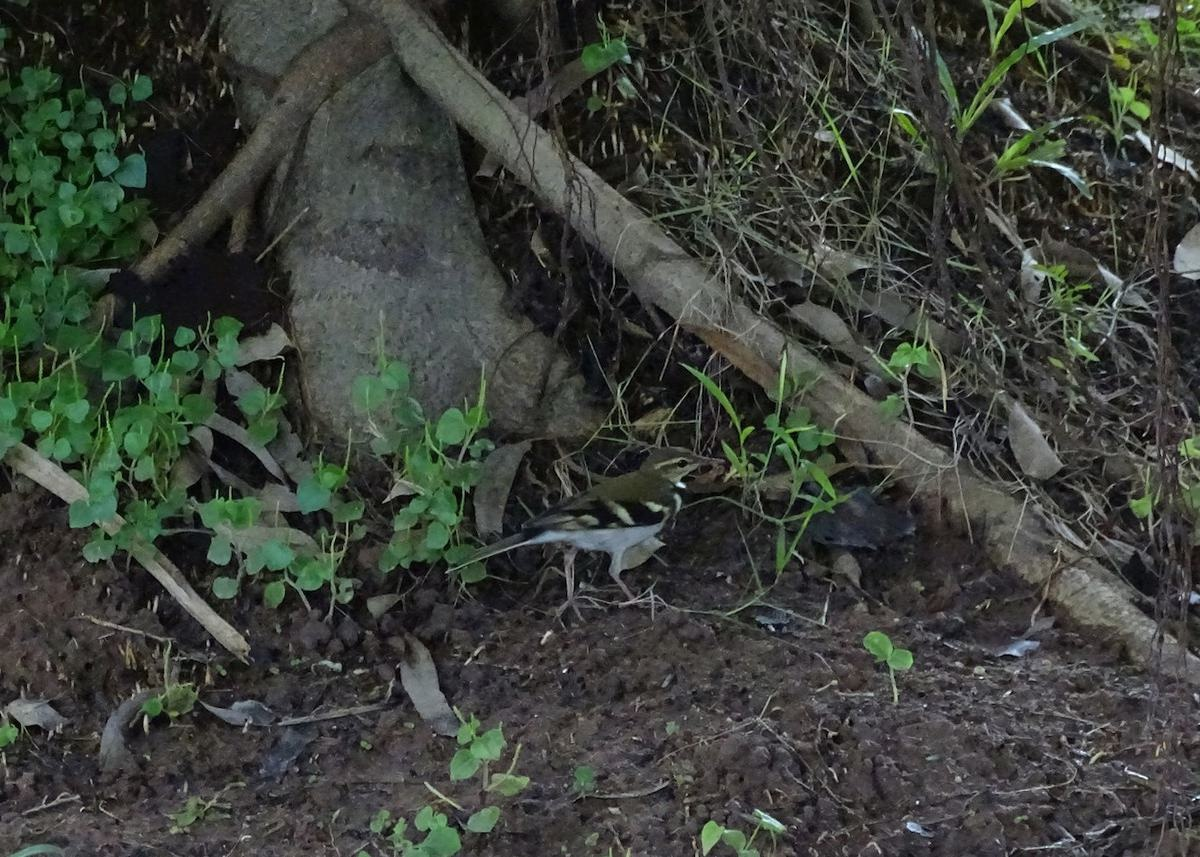wagtail: (499, 450, 713, 594)
